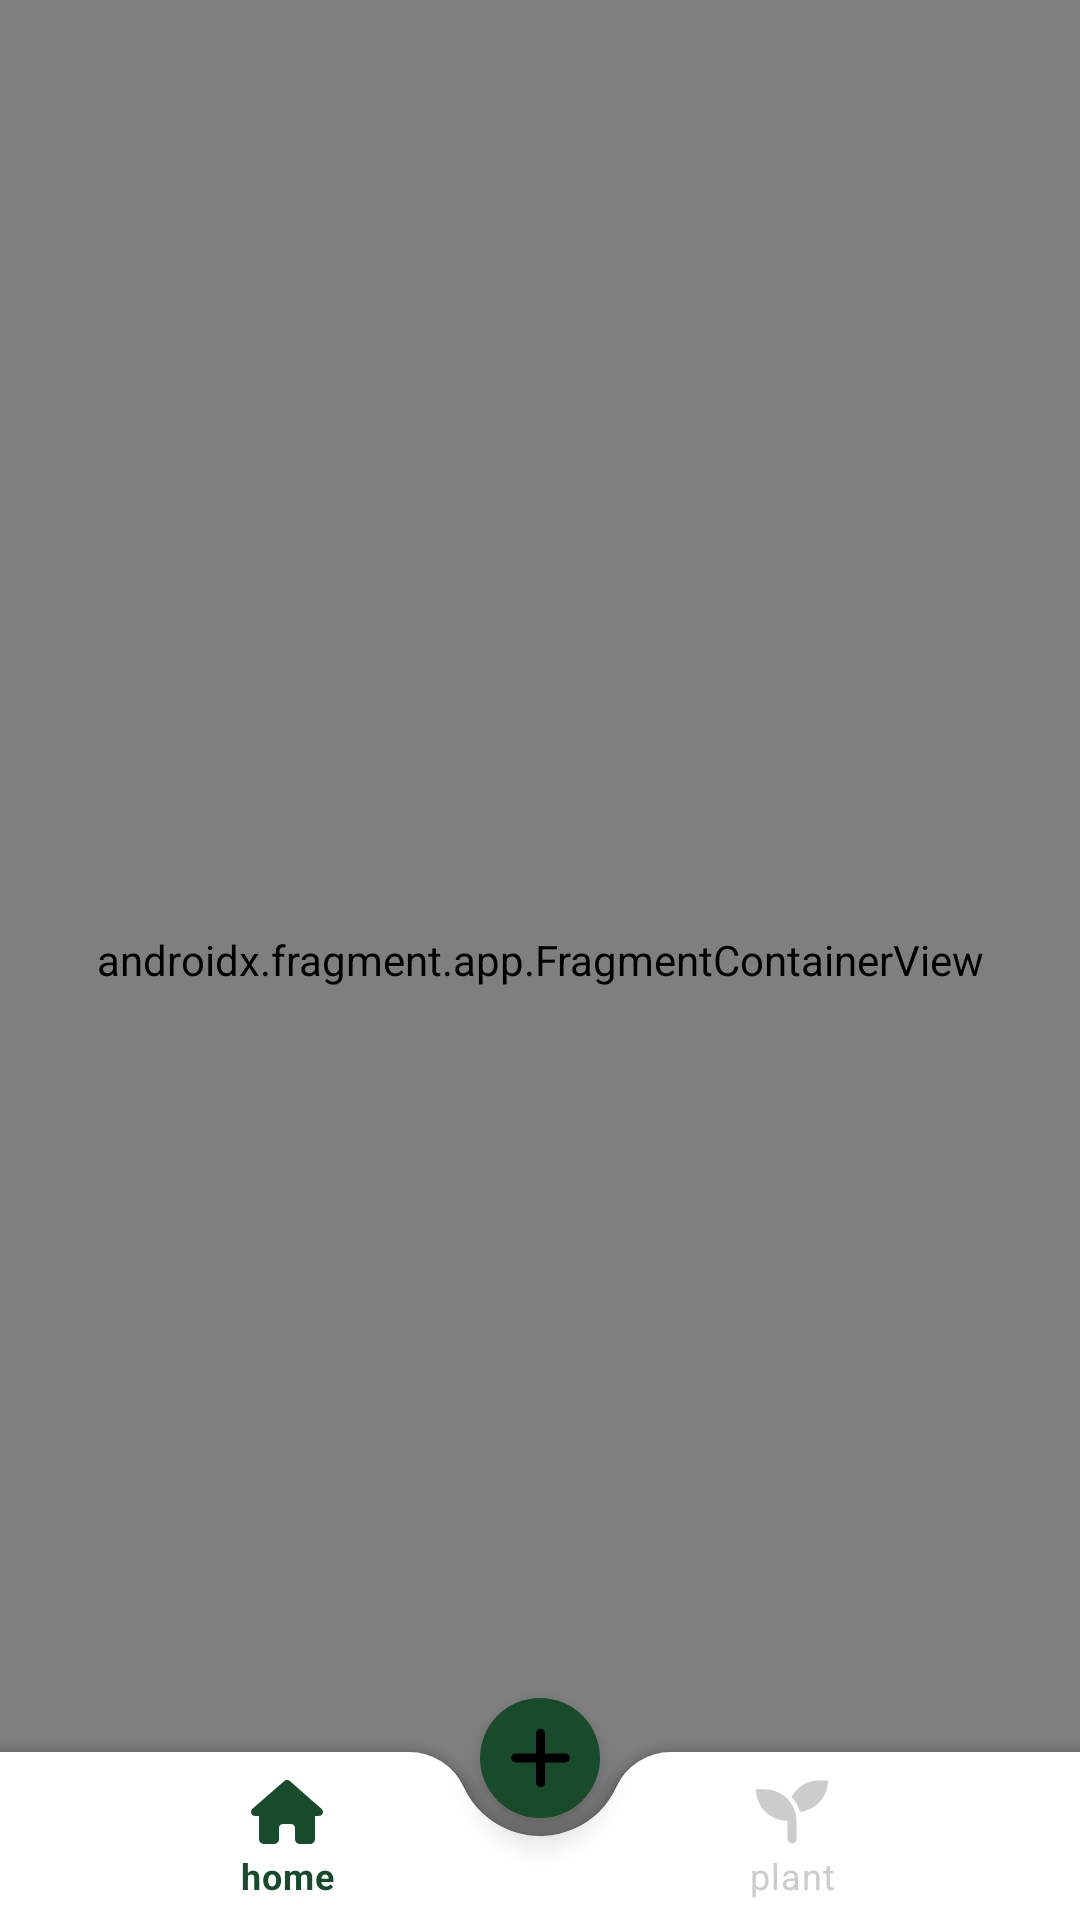

Icon click points for this 1080 × 1920 phone screenshot, format [x,y]:
plus: [540,1758]
